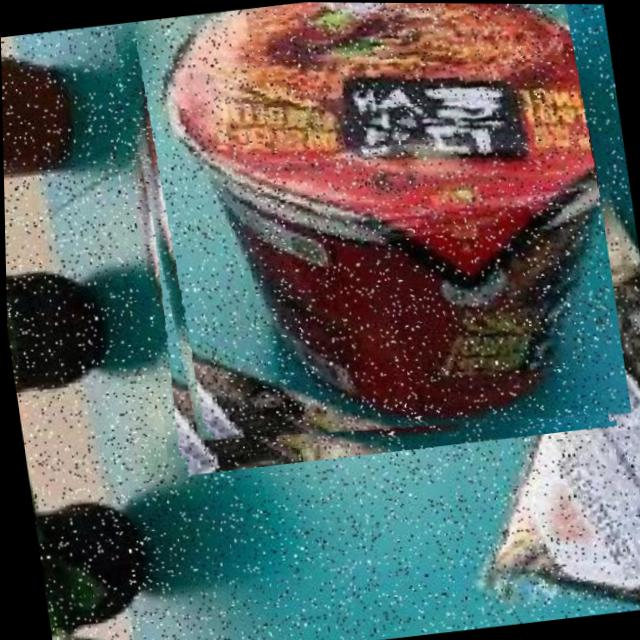Miscellaneous: (107, 1, 629, 470)
